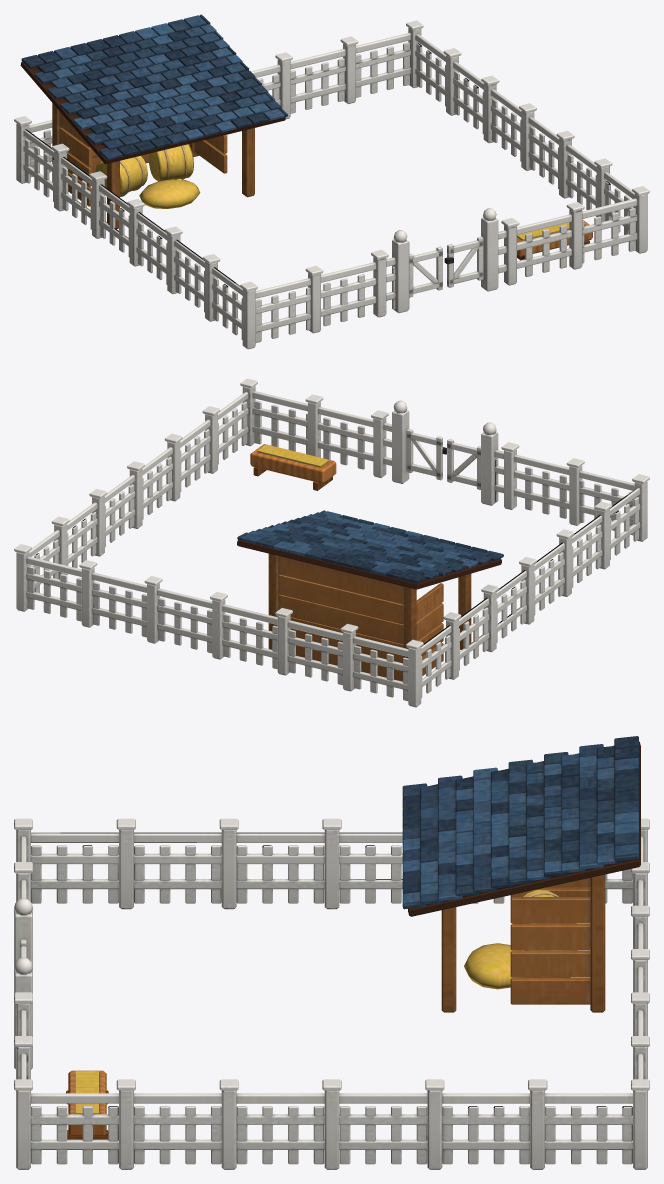
File: black_sheepfold.glb
3 views of the same model, one above another, from view 1: azimuth 30°, elevation 25°; view 2: azimuth 150°, elevation 25°; view 3: azimuth 270°, elevation 25° (orthographic). The views are drawn at different scales.
Visible parts, largest first — view 1: black_sheepfold, gate1, gate0; view 2: black_sheepfold, gate1, gate0; view 3: black_sheepfold.
Boxes of the visible parts, <box> form: black_sheepfold: <box>14,14,649,349</box>; gate1: <box>444,236,483,287</box>; gate0: <box>409,246,442,297</box>; black_sheepfold: <box>14,378,649,707</box>; gate1: <box>406,429,446,480</box>; gate0: <box>447,439,480,489</box>; black_sheepfold: <box>14,736,649,1169</box>.
Size of the model in its own units: 2.99 by 0.9346 by 2.99.
Materials: 1 (1 with a texture image).
